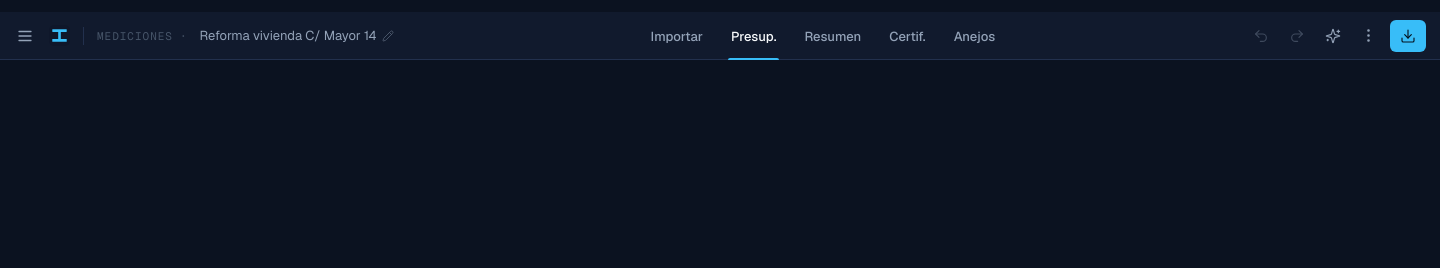
Scenario: TopBar — menú «Más» en móvil (la fila de acciones pisaba la marca) › en tablet también hay menú (sin Ayuda ni Deshacer: siguen en sus barras) y pestañas cortas
Expected: the button with aria-label "Certificaciones" reads "Certif.", x1=876 y1=12 x2=939 y2=60
Expected: the button named "Deshacer" is shown, x1=1246 y1=20 x2=1276 y2=50
Click the button named "Más acciones" at {"x": 1369, "y": 36}, box x1=1354 y1=20 x2=1384 y2=50
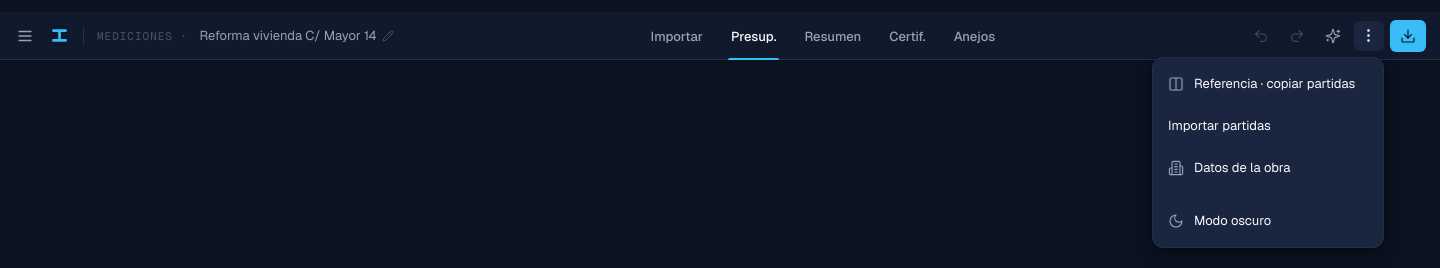
Result: the menu item "Datos de la obra" is shown at x1=1158 y1=146 x2=1378 y2=188
